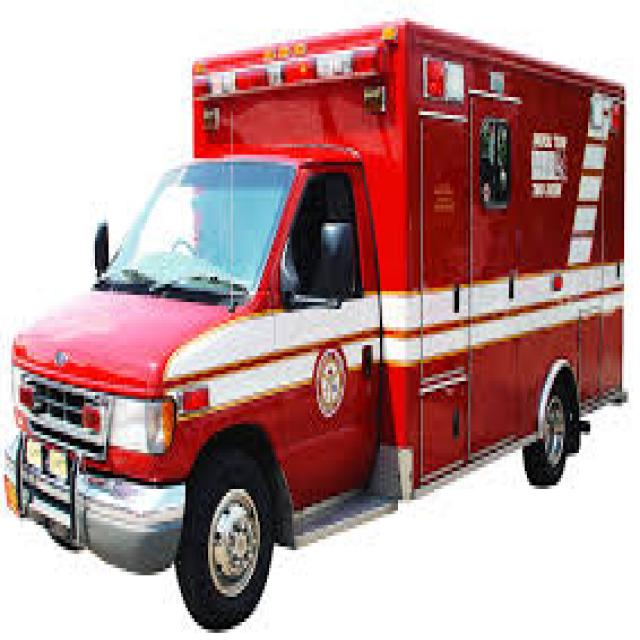Firetruck: (4, 25, 640, 632)
